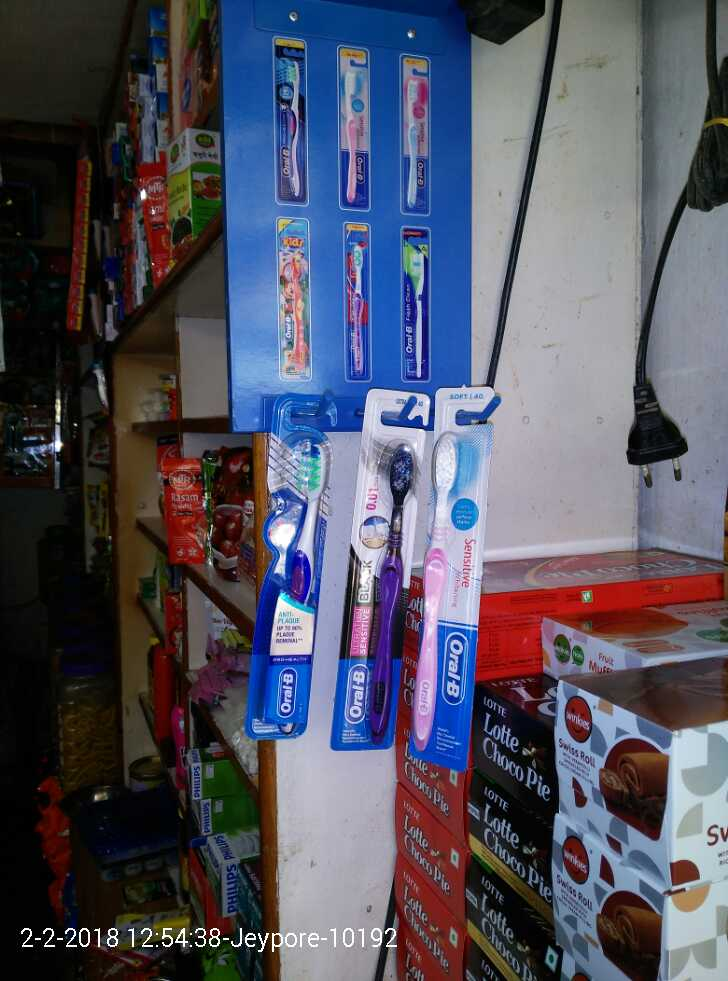pharmacy: (251, 416, 337, 735), (414, 406, 478, 774), (355, 429, 415, 752)
